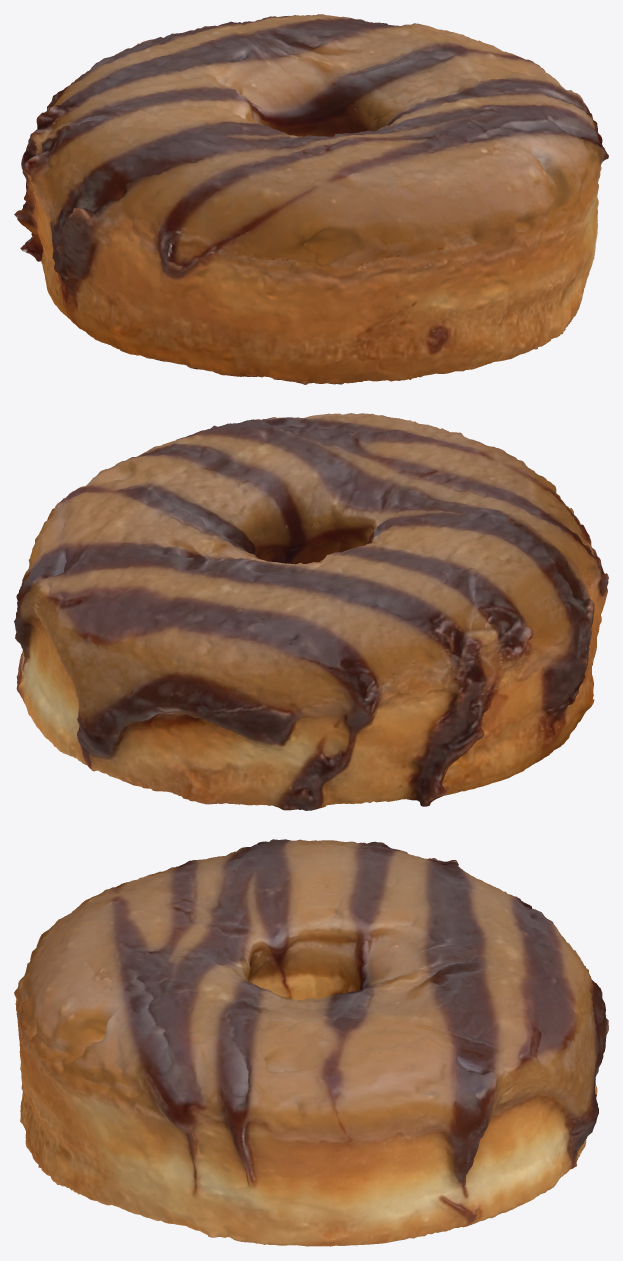
File: maple_donut.glb
The picture shows the model from 3 angles, top to bottom: view 1: azimuth 30°, elevation 25°; view 2: azimuth 150°, elevation 25°; view 3: azimuth 270°, elevation 25°; orthographic projection. The views are drawn at different scales.
Parts seen in each view (by area): view 1: model; view 2: model; view 3: model.
Boxes of the visible parts, x1,y1,x2,y2 form: model: (14, 14, 608, 384); model: (14, 413, 608, 810); model: (14, 839, 608, 1246).
Size of the model in its own units: 0.1469 by 0.0521 by 0.1438.
1 material, 1 textured.
